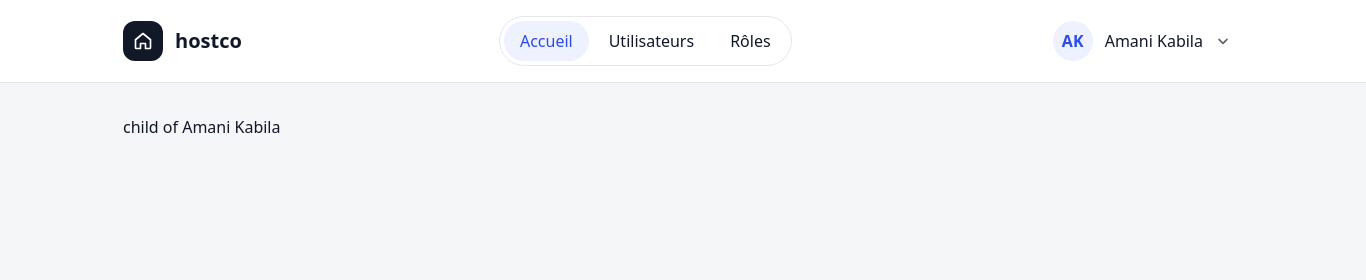
it: AdminShell (fr) › explains when signing out fails, and stays
Click the button "AK Amani Kabila". click: click(1146, 41)
box: [1049,17,1243,65]
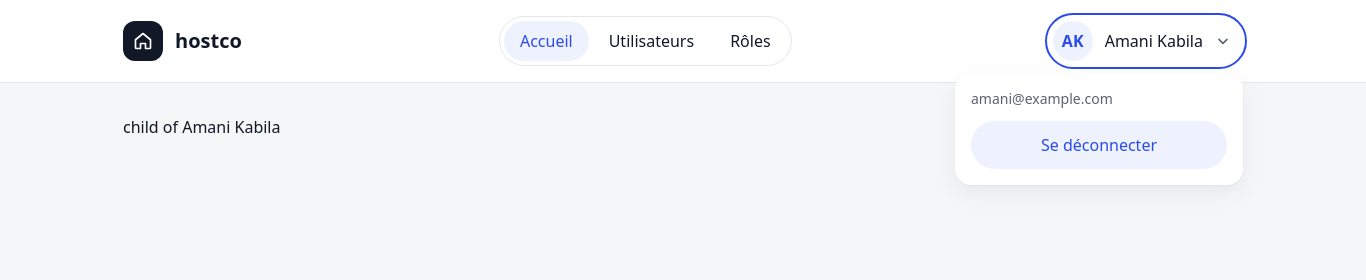
Click the button "Se déconnecter". click: click(1099, 145)
box: [971,121,1227,169]
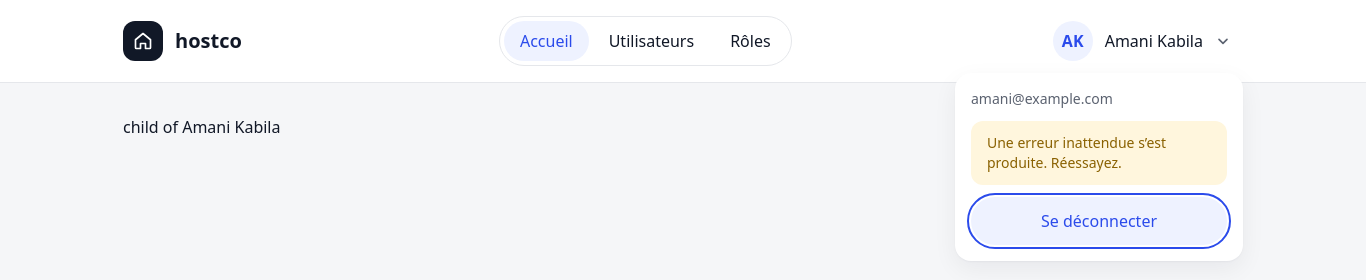
Now the message reads "Une erreur inattendue s’est produite. Réessayez.", box [987,133,1166,172]
